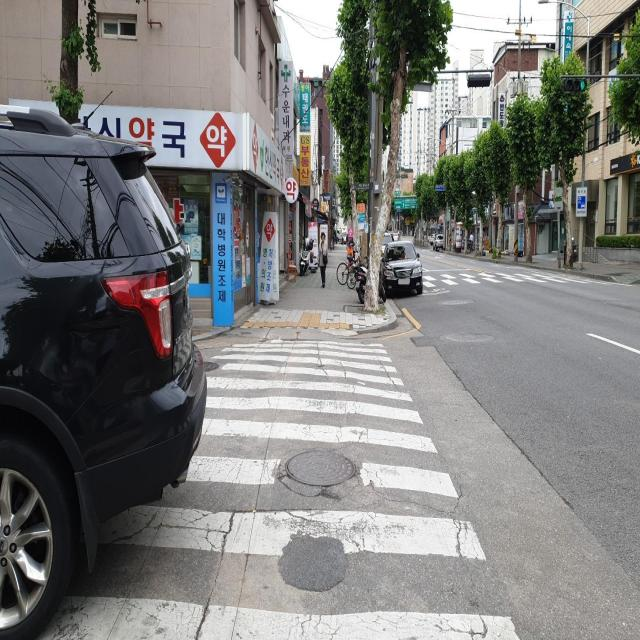횡단보도: (32, 334, 526, 640), (422, 267, 590, 291)
